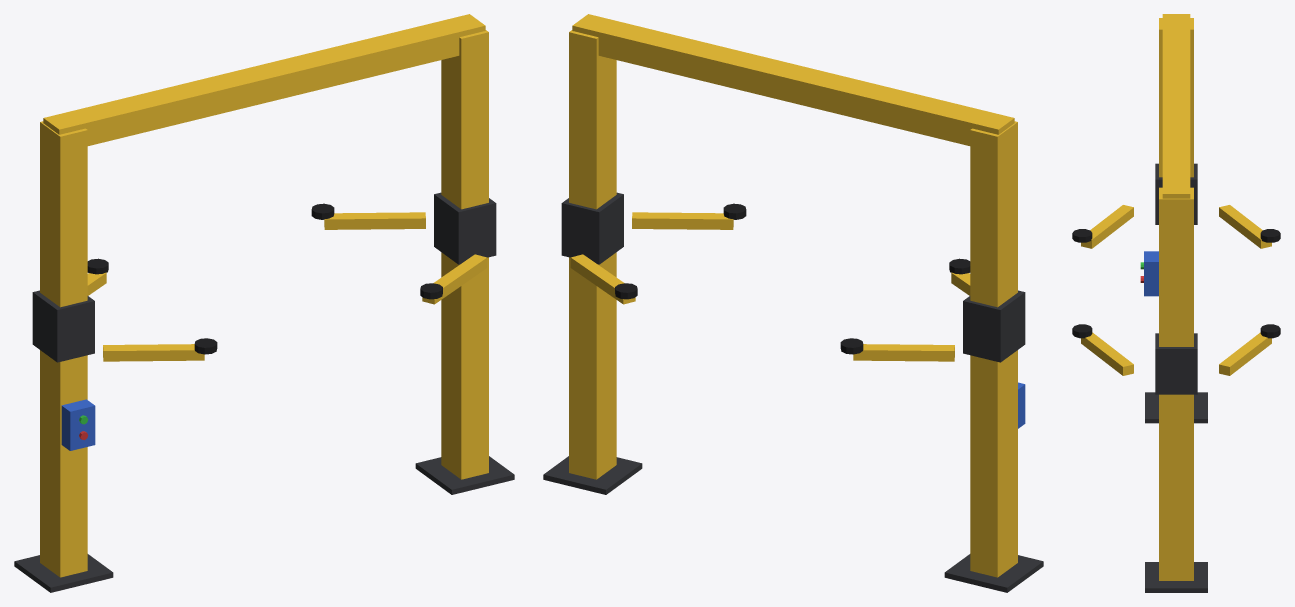
Rendered from garage_lift.glb.
3 renders of one model, left to right at view 1: azimuth 30°, elevation 25°; view 2: azimuth 150°, elevation 25°; view 3: azimuth 270°, elevation 25°, orthographic. The views are drawn at different scales.
Visible parts, largest first — view 1: post_lift_yellow, beam_lift_yellow, carriage_lift_dark, arm_lift_yellow, plate_lift_dark, control_lift_box, pad_lift_pad; view 2: post_lift_yellow, beam_lift_yellow, carriage_lift_dark, arm_lift_yellow, plate_lift_dark, pad_lift_pad; view 3: post_lift_yellow, beam_lift_yellow, arm_lift_yellow, carriage_lift_dark, plate_lift_dark, pad_lift_pad, control_lift_box.
Part boxes in pixels (left/top/right/bottom): post_lift_yellow: left=40, top=30, right=488, bottom=577; beam_lift_yellow: left=43, top=14, right=485, bottom=145; carriage_lift_dark: left=32, top=192, right=496, bottom=362; arm_lift_yellow: left=87, top=212, right=487, bottom=361; plate_lift_dark: left=14, top=456, right=514, bottom=592; control_lift_box: left=61, top=399, right=95, bottom=450; pad_lift_pad: left=87, top=203, right=442, bottom=354; post_lift_yellow: left=569, top=30, right=1017, bottom=577; beam_lift_yellow: left=572, top=14, right=1014, bottom=145; carriage_lift_dark: left=561, top=192, right=1025, bottom=362; arm_lift_yellow: left=570, top=212, right=970, bottom=361; plate_lift_dark: left=543, top=456, right=1043, bottom=592; pad_lift_pad: left=615, top=203, right=970, bottom=354; post_lift_yellow: left=1159, top=18, right=1193, bottom=580; beam_lift_yellow: left=1162, top=14, right=1190, bottom=198; arm_lift_yellow: left=1081, top=205, right=1271, bottom=375; carriage_lift_dark: left=1155, top=163, right=1197, bottom=394; plate_lift_dark: left=1145, top=392, right=1207, bottom=592; pad_lift_pad: left=1072, top=229, right=1280, bottom=338; control_lift_box: left=1144, top=251, right=1158, bottom=296.
Bounding box in the file's own units: 3.7 × 3.44 × 1.66.
